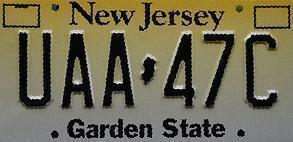placa de veiculo: (2, 3, 289, 140)
